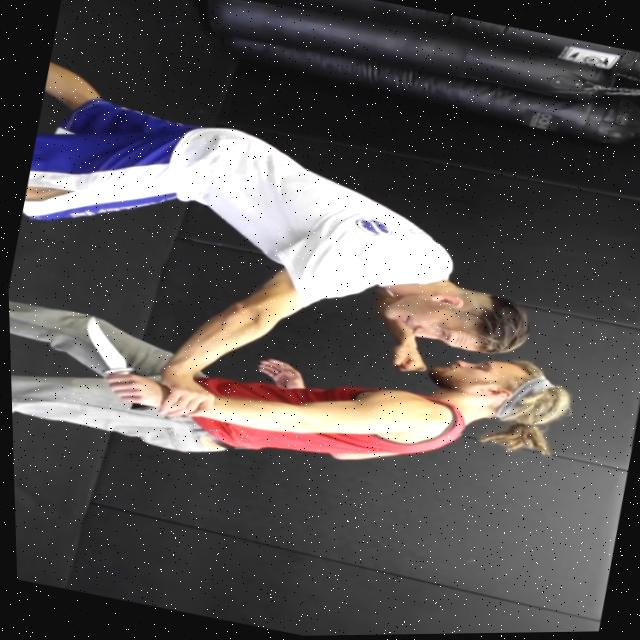knife: (74, 313, 144, 380)
